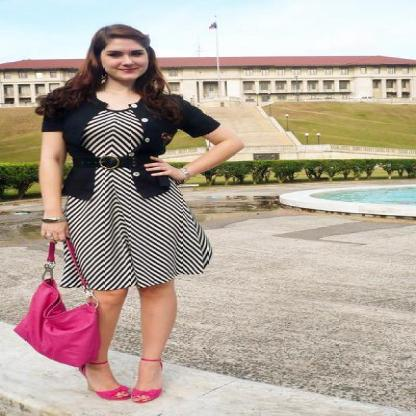bag: (14, 280, 107, 374)
dress: (43, 108, 211, 289)
jacket: (42, 91, 219, 204)
shoe: (96, 376, 165, 400)
